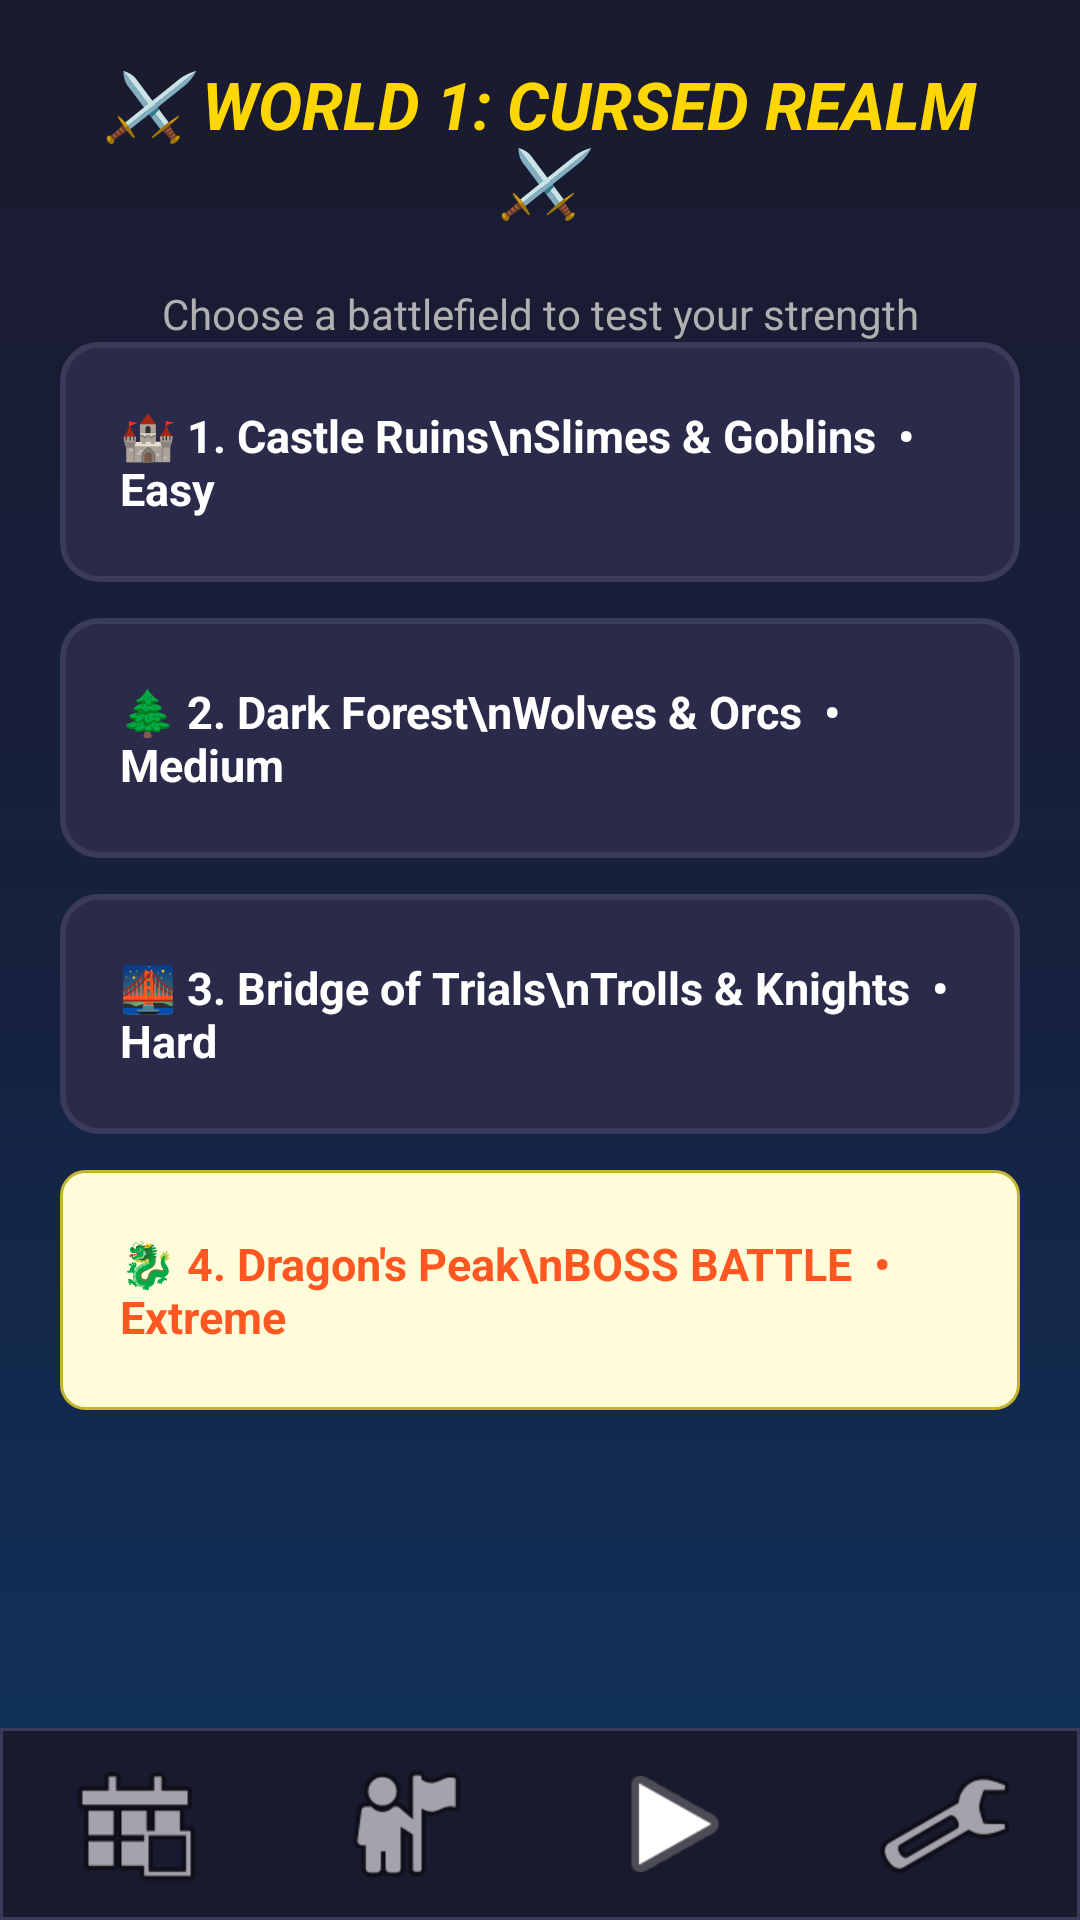

Locate icon controls on the screen. Image size 1080*1920, boxes as {"left": x1, "top": y1, "right": x2, "bottom": y2}.
Character: {"left": 357, "top": 1775, "right": 456, "bottom": 1873}
Settings: {"left": 885, "top": 1779, "right": 1005, "bottom": 1869}
